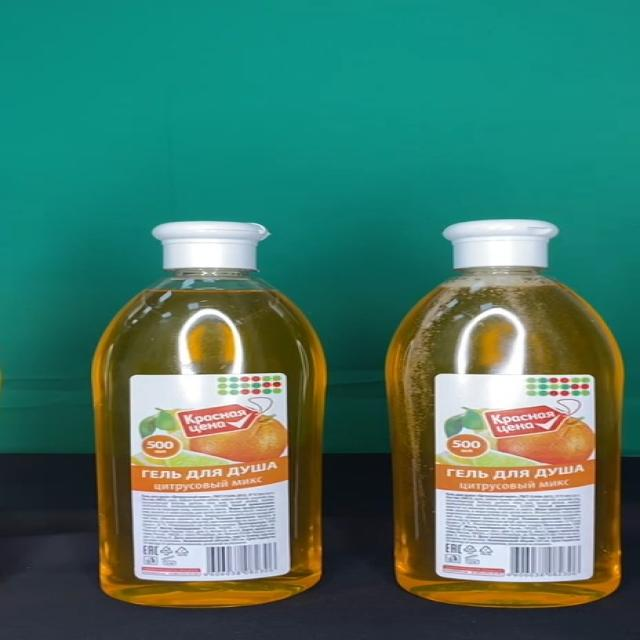Bottle: (388, 220, 625, 608), (90, 222, 326, 608)
Cap: (150, 222, 270, 271), (442, 220, 558, 267)
